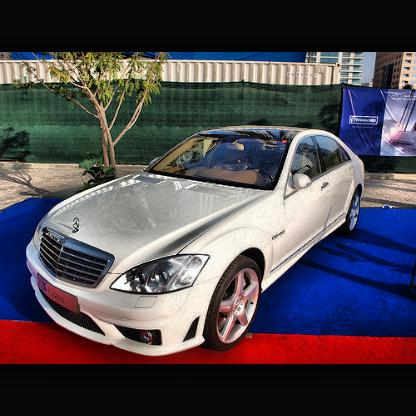Mercedes-Benz S-Class Sedan 2012: (27, 128, 368, 358)
